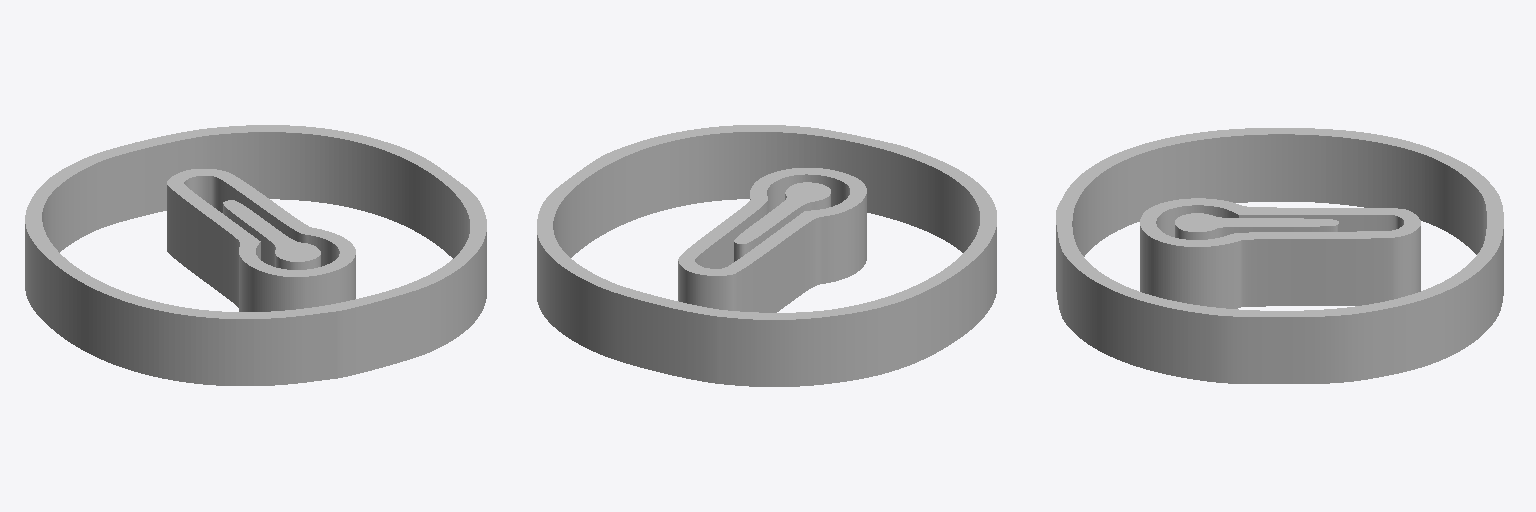
The model's file is Pilar_01 1.obj.
3 views of the same model, side by side, from view 1: azimuth 30°, elevation 25°; view 2: azimuth 150°, elevation 25°; view 3: azimuth 270°, elevation 25° (orthographic).
Parts seen in each view (by area): view 1: path108188; view 2: path108188; view 3: path108188.
Part boxes in pixels (x1,y1,x2,y2): path108188: (25, 125, 486, 385); path108188: (537, 125, 996, 386); path108188: (1056, 128, 1503, 383).
Size of the model in its own units: 9.65 by 1.6 by 9.64.